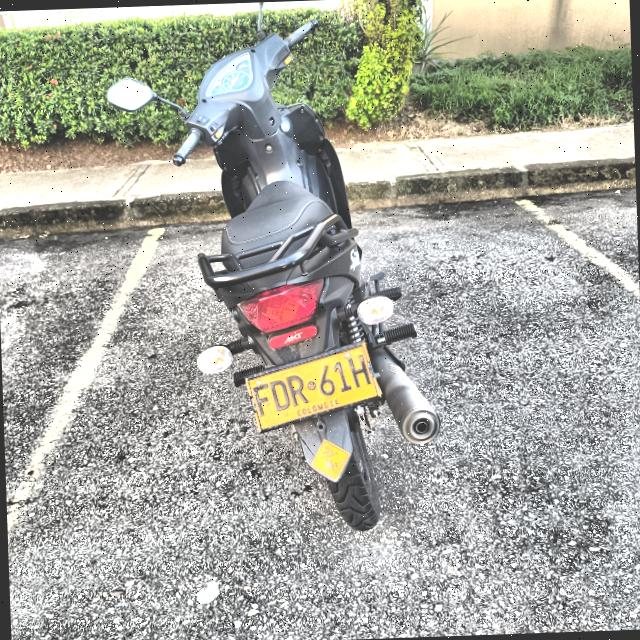1: (330, 358, 354, 394)
6: (313, 362, 339, 399)
D: (268, 377, 292, 413)
F: (251, 381, 274, 418)
H: (345, 352, 373, 389)
R: (283, 372, 311, 407)
